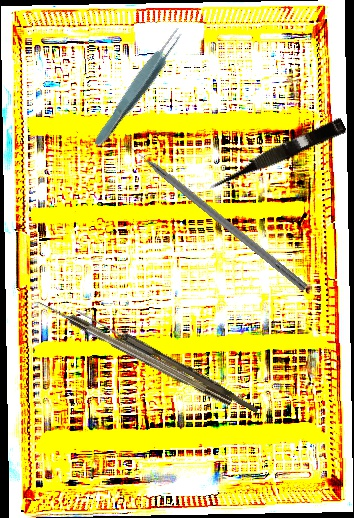Hook Surgical: (120, 135, 311, 292), (35, 295, 234, 409)
Micro Scissor: (204, 114, 348, 195)
Surgical Spoon: (72, 306, 262, 414)
Tissue Forceps: (89, 24, 189, 151)
